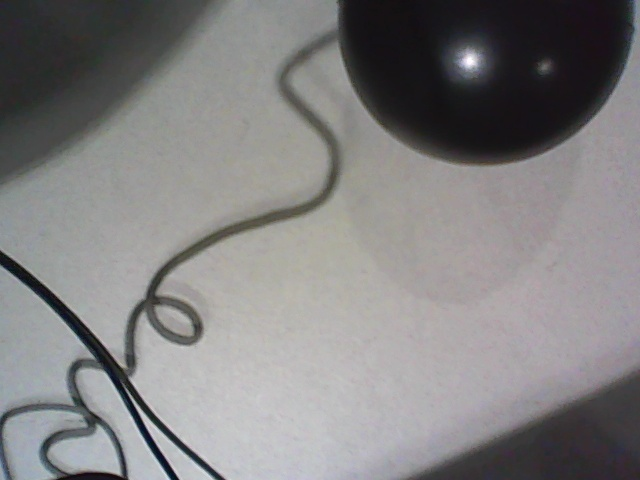ball: (338, 1, 634, 167)
